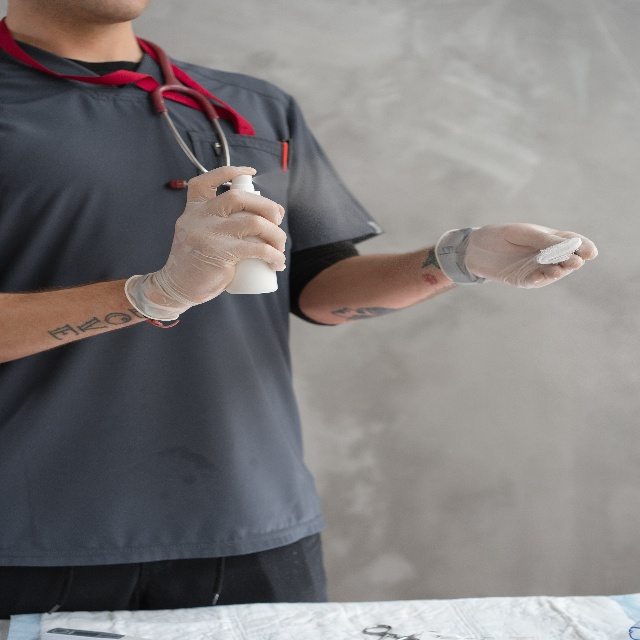Guantes: (124, 164, 287, 321), (435, 221, 597, 288)
Sin_guantes: (166, 165, 287, 306), (467, 223, 597, 288)
